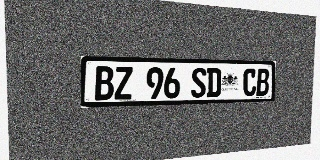6: (164, 67, 180, 98)
9: (147, 67, 164, 99)
B: (95, 66, 114, 100), (256, 69, 269, 96)
C: (243, 68, 257, 96)
D: (206, 68, 221, 97)
S: (191, 68, 206, 98)
Z: (114, 66, 133, 100)
